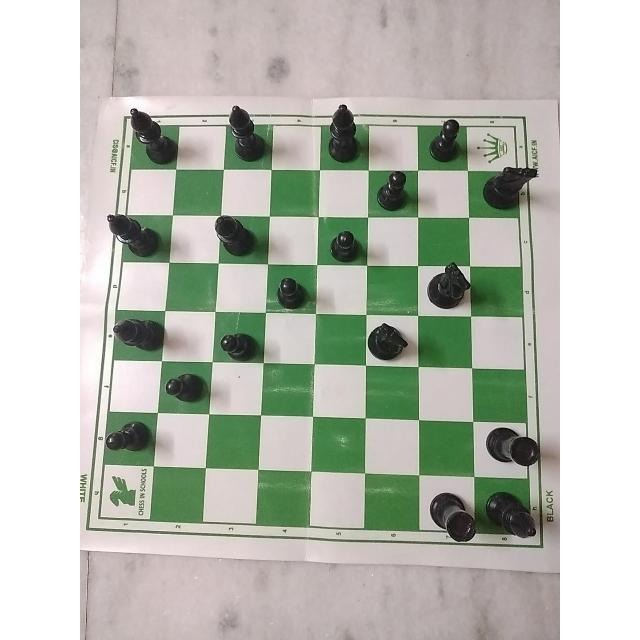black-bishop: (479, 480, 540, 552), (126, 95, 181, 173), (102, 206, 168, 259), (103, 308, 163, 364), (224, 100, 270, 168), (208, 209, 264, 261), (321, 98, 365, 161)
black-knight: (484, 158, 540, 210), (423, 261, 473, 313), (365, 318, 416, 366)
black-pawn: (99, 409, 150, 462), (159, 360, 209, 410), (367, 164, 415, 214), (421, 113, 467, 165), (206, 326, 258, 370), (322, 216, 366, 264), (270, 266, 308, 311)
black-rook: (421, 484, 483, 547), (487, 431, 547, 475)
